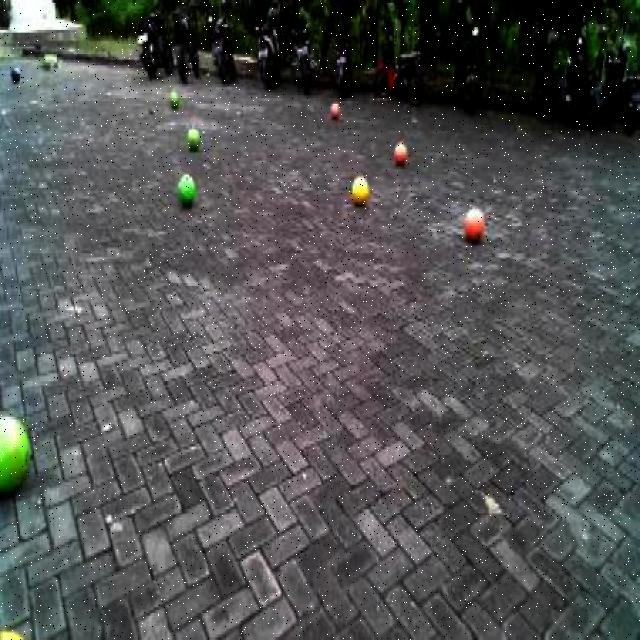buoy: (0, 382, 38, 524), (346, 167, 374, 211), (174, 164, 199, 208), (461, 204, 486, 245)
